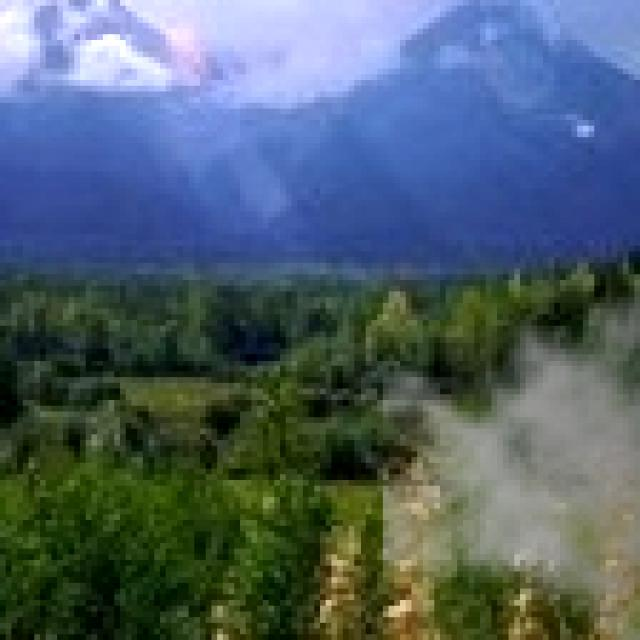smoke: (383, 245, 640, 640)
